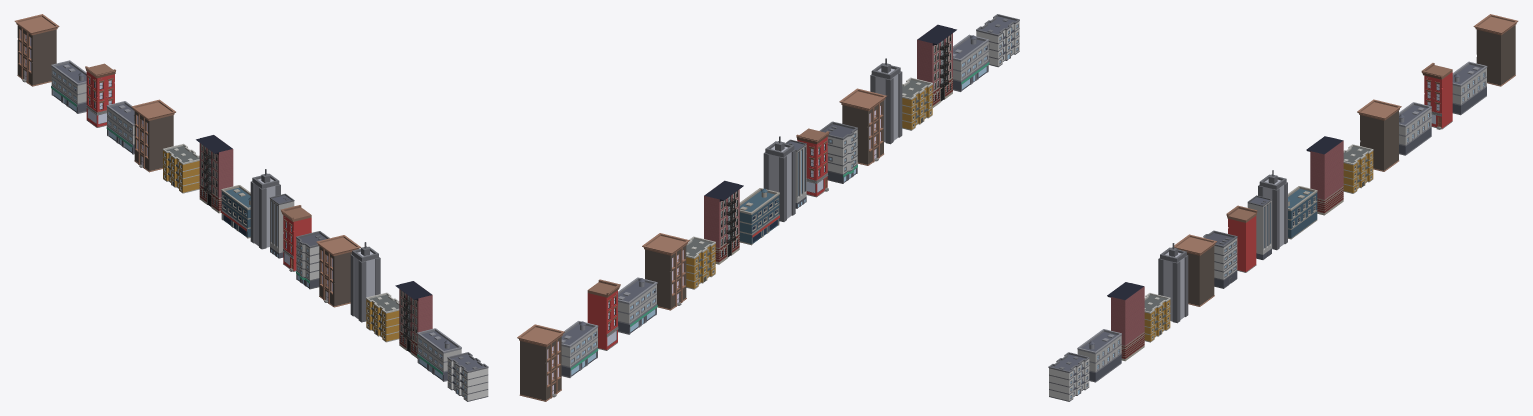
The model's file is SIDEWALK_RIGHT_NEW.glb.
3 views of the same model, side by side, from view 1: azimuth 30°, elevation 25°; view 2: azimuth 150°, elevation 25°; view 3: azimuth 330°, elevation 25° (orthographic). The views are drawn at different scales.
Parts seen in each view (by area): view 1: BrownBuilding.002, BrownBuilding.001, BrownBuilding.003, Apartment_mesh.002, Apartment_mesh.003, low_buildingD.003, large_buildingA.002, low_buildingD.002, BuildingCornerRed.002, large_buildingF.004, large_buildingA.001, large_buildingF.003 (+6 smaller); view 2: BrownBuilding.002, BrownBuilding.001, Apartment_mesh.002, BrownBuilding.003, Apartment_mesh.003, low_buildingD.002, large_buildingF.002, low_buildingD.003, large_buildingF.001, BuildingCornerRed.002, large_buildingE.001, large_buildingF.004 (+6 smaller); view 3: BrownBuilding.002, BrownBuilding.001, Apartment_mesh.002, Apartment_mesh.003, BrownBuilding.003, low_buildingD.003, large_buildingA.002, BuildingCornerRed.002, large_buildingF.003, BuildingCornerRed.003, large_buildingF.004, low_buildingD.002 (+6 smaller).
Part boxes in pixels (x1,y1,x2,y2): BrownBuilding.002: (14,14,59,86); BrownBuilding.001: (131,99,175,172); BrownBuilding.003: (316,235,360,307); Apartment_mesh.002: (196,135,233,213); Apartment_mesh.003: (395,281,432,358); low_buildingD.003: (350,242,380,322); large_buildingA.002: (447,352,488,401); low_buildingD.002: (250,169,280,249); BuildingCornerRed.002: (85,63,115,127); large_buildingF.004: (51,60,86,113); large_buildingA.001: (162,143,199,193); large_buildingF.003: (417,328,461,381); BrownBuilding.002: (517,324,564,401); BrownBuilding.001: (642,233,689,310); Apartment_mesh.002: (704,180,743,264); BrownBuilding.003: (839,88,886,165); Apartment_mesh.003: (917,24,956,107); low_buildingD.002: (763,136,795,221); large_buildingF.002: (739,188,779,245); low_buildingD.003: (870,58,902,144); large_buildingF.001: (617,277,657,334); BuildingCornerRed.002: (587,279,620,350); large_buildingE.001: (819,121,857,183); large_buildingF.004: (561,321,598,377); BrownBuilding.002: (1473,14,1518,86); BrownBuilding.001: (1357,99,1401,171); Apartment_mesh.002: (1306,136,1343,215); Apartment_mesh.003: (1107,282,1144,361); BrownBuilding.003: (1174,234,1216,306); low_buildingD.003: (1158,243,1188,323); large_buildingA.002: (1048,352,1089,401); BuildingCornerRed.002: (1421,63,1452,129); large_buildingF.003: (1077,329,1121,382); BuildingCornerRed.003: (1226,205,1257,272); large_buildingF.004: (1452,61,1487,115); low_buildingD.002: (1258,170,1287,250).
Size of the model in its own units: 2.2 by 5.52 by 60.6.
Materials: 76 (2 with a texture image).
